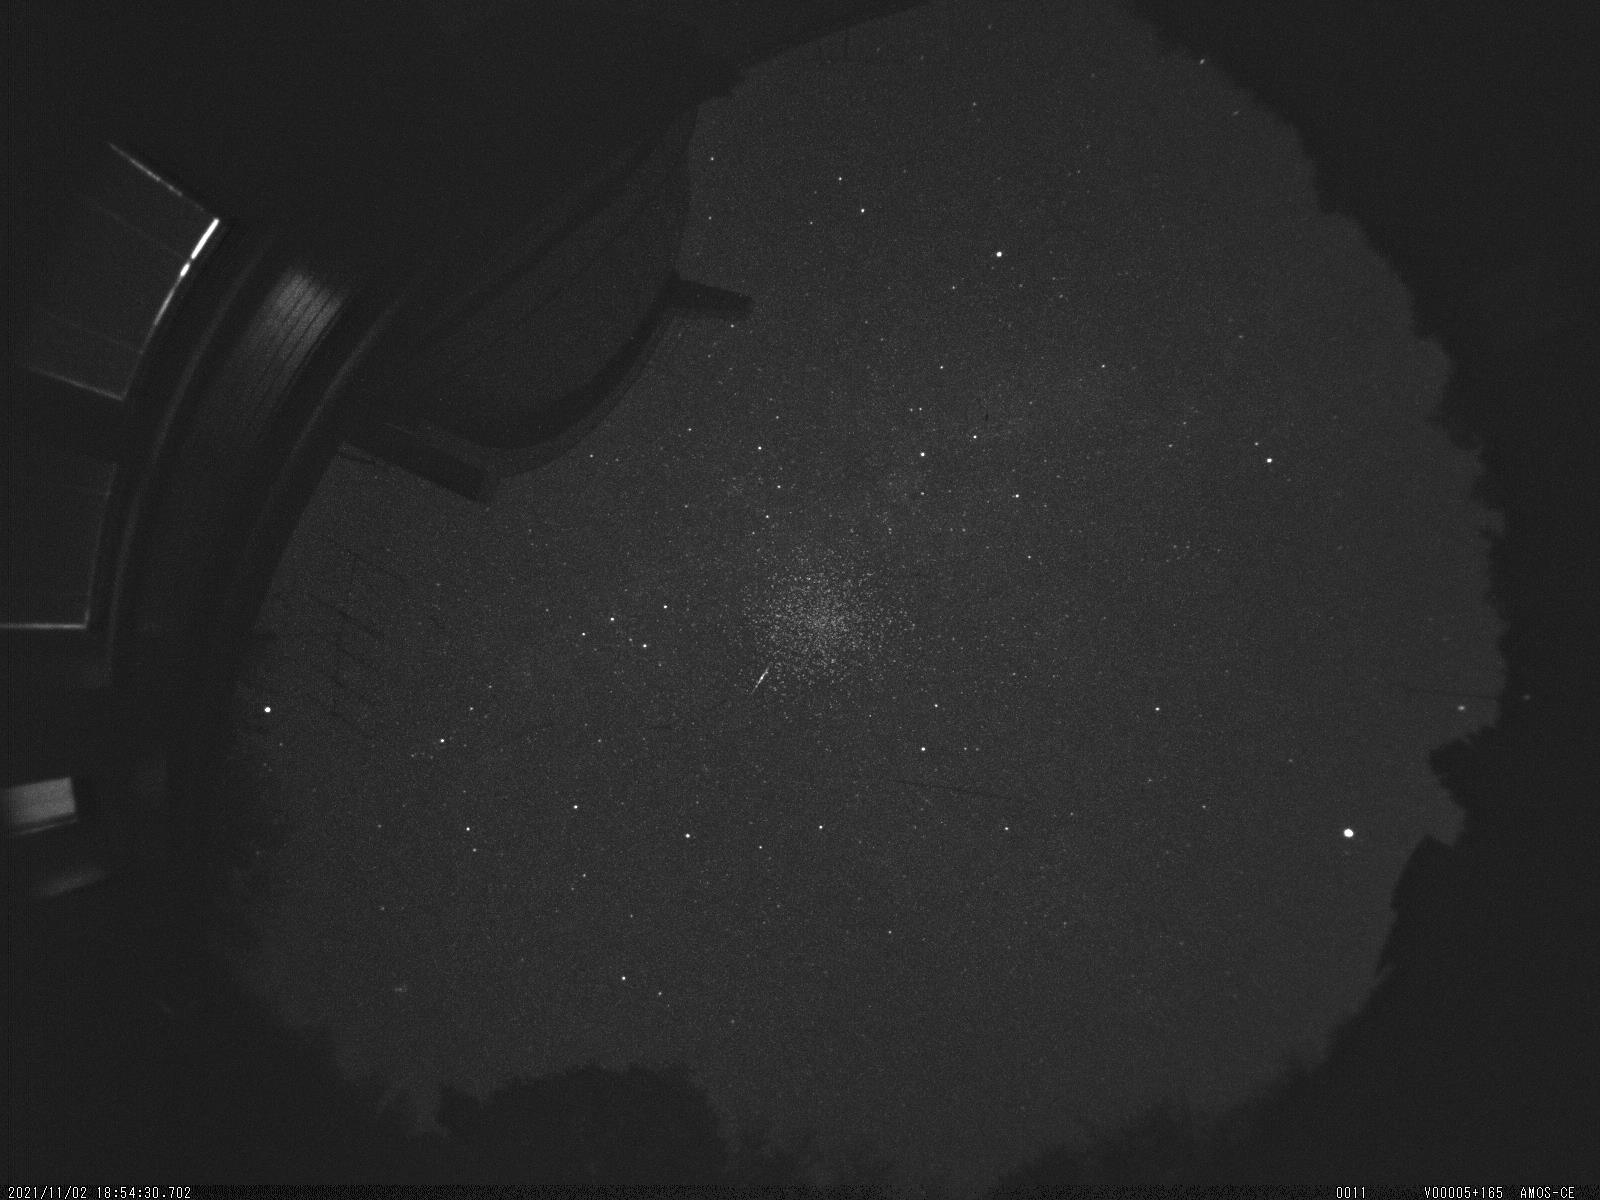Meteor: (746, 654, 777, 704)
